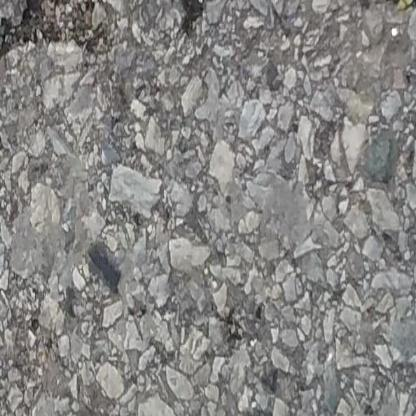Cracks: (0, 0, 122, 67), (160, 0, 242, 38), (363, 0, 416, 27)
